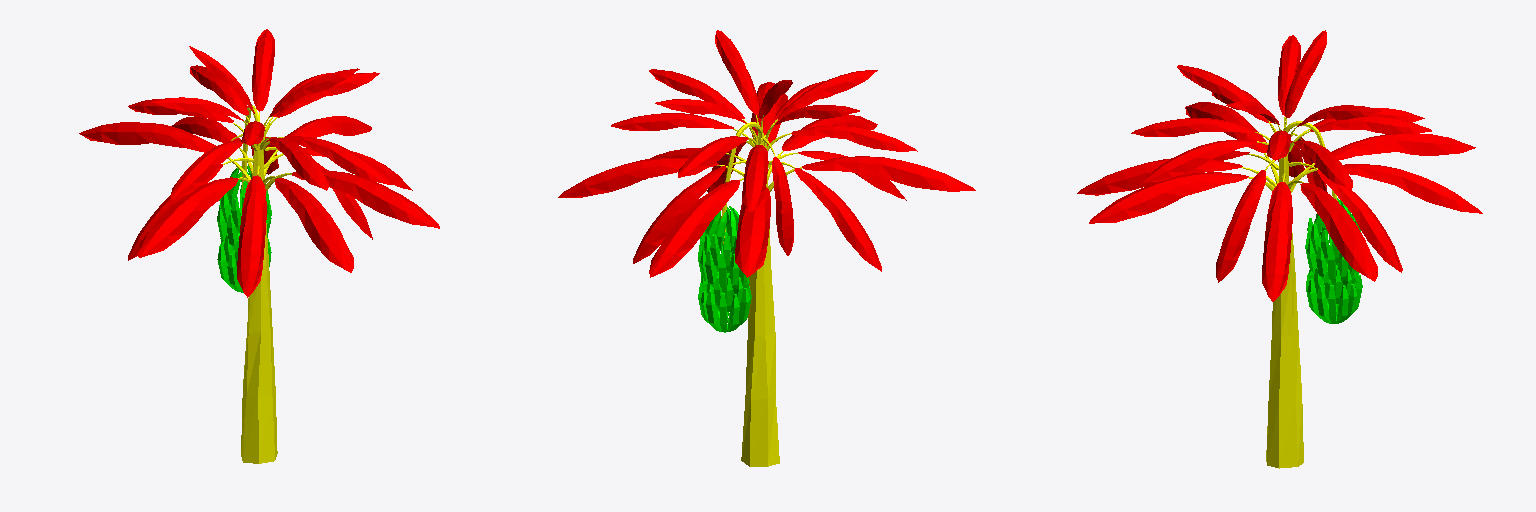
Rendered from BananaTree.obj.
The picture shows the model from 3 angles: view 1: azimuth 30°, elevation 25°; view 2: azimuth 150°, elevation 25°; view 3: azimuth 270°, elevation 25°; orthographic projection.
Visible parts, largest first — view 1: BananaLeaves BananaTree, BananaTree Trunk, BananaTree BananaLeavesReversed, BananaTree Bananas; view 2: BananaLeaves BananaTree, BananaTree Trunk, BananaTree BananaLeavesReversed, BananaTree Bananas; view 3: BananaLeaves BananaTree, BananaTree Trunk, BananaTree BananaLeavesReversed, BananaTree Bananas.
Boxes of the visible parts, x1=… form: BananaLeaves BananaTree: x1=79, y1=29, x2=439, y2=297; BananaTree Trunk: x1=223, y1=112, x2=291, y2=463; BananaTree BananaLeavesReversed: x1=82, y1=31, x2=439, y2=293; BananaTree Bananas: x1=217, y1=166, x2=271, y2=292; BananaLeaves BananaTree: x1=560, y1=30, x2=974, y2=277; BananaTree Trunk: x1=717, y1=115, x2=801, y2=466; BananaTree BananaLeavesReversed: x1=558, y1=31, x2=975, y2=277; BananaTree Bananas: x1=698, y1=206, x2=751, y2=332; BananaLeaves BananaTree: x1=1078, y1=31, x2=1482, y2=301; BananaTree Trunk: x1=1241, y1=117, x2=1317, y2=468; BananaTree BananaLeavesReversed: x1=1077, y1=30, x2=1481, y2=301; BananaTree Bananas: x1=1305, y1=198, x2=1362, y2=323.
Bounding box in the file's own units: 4.86 × 5.82 × 5.26.